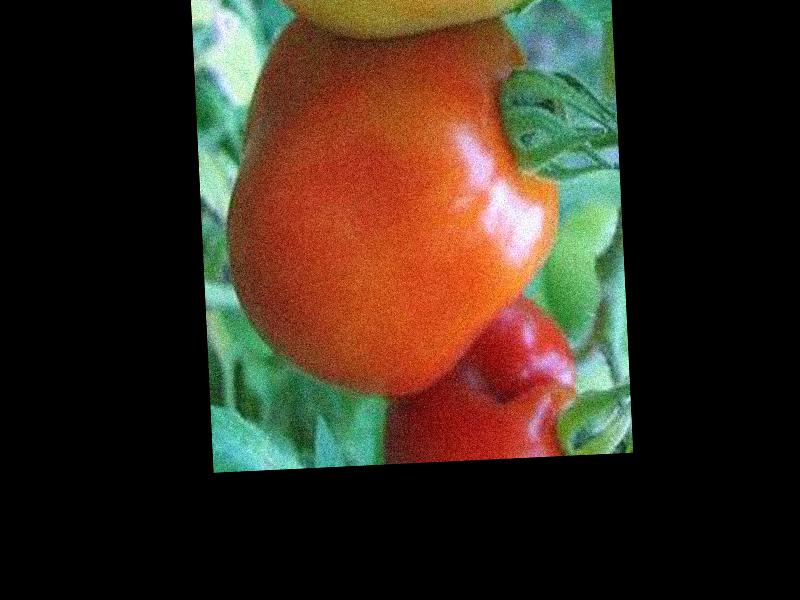Tomato: (217, 23, 567, 405)
